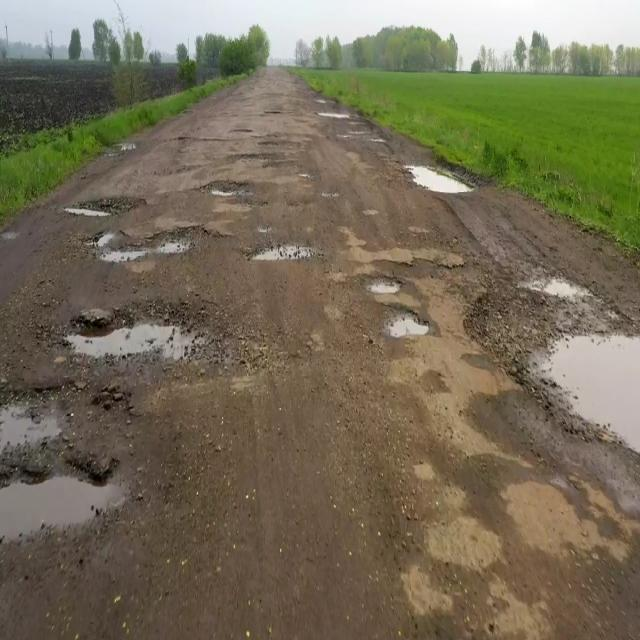road-pothole: (530, 330, 639, 457), (2, 466, 122, 544), (70, 307, 229, 365), (2, 383, 72, 459), (95, 234, 221, 274), (405, 162, 472, 197), (66, 198, 138, 226), (522, 270, 584, 300), (386, 310, 429, 342), (254, 243, 310, 263), (366, 282, 405, 298)
